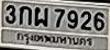letters: (34, 6, 49, 28), (18, 5, 33, 26), (4, 4, 17, 26), (66, 9, 79, 30), (93, 11, 106, 32), (80, 10, 92, 32), (54, 8, 66, 29)
province: (15, 32, 94, 47)
